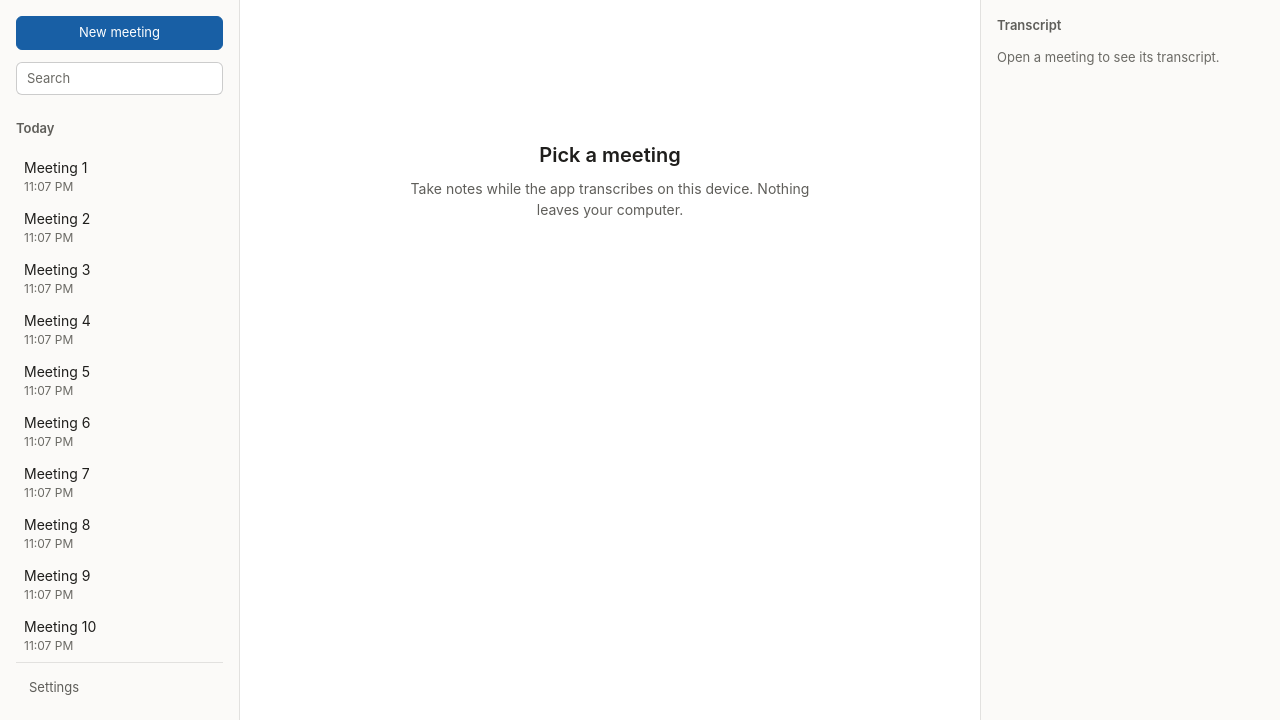
Test case: App › paging › keeps a new meeting at the top while paging
Expected: the button with aria-label "Meeting 1," is shown, [16,150,223,202]
Click the button "New meeting".
click(120, 33)  # box [16,16,223,50]
(page scrolled)
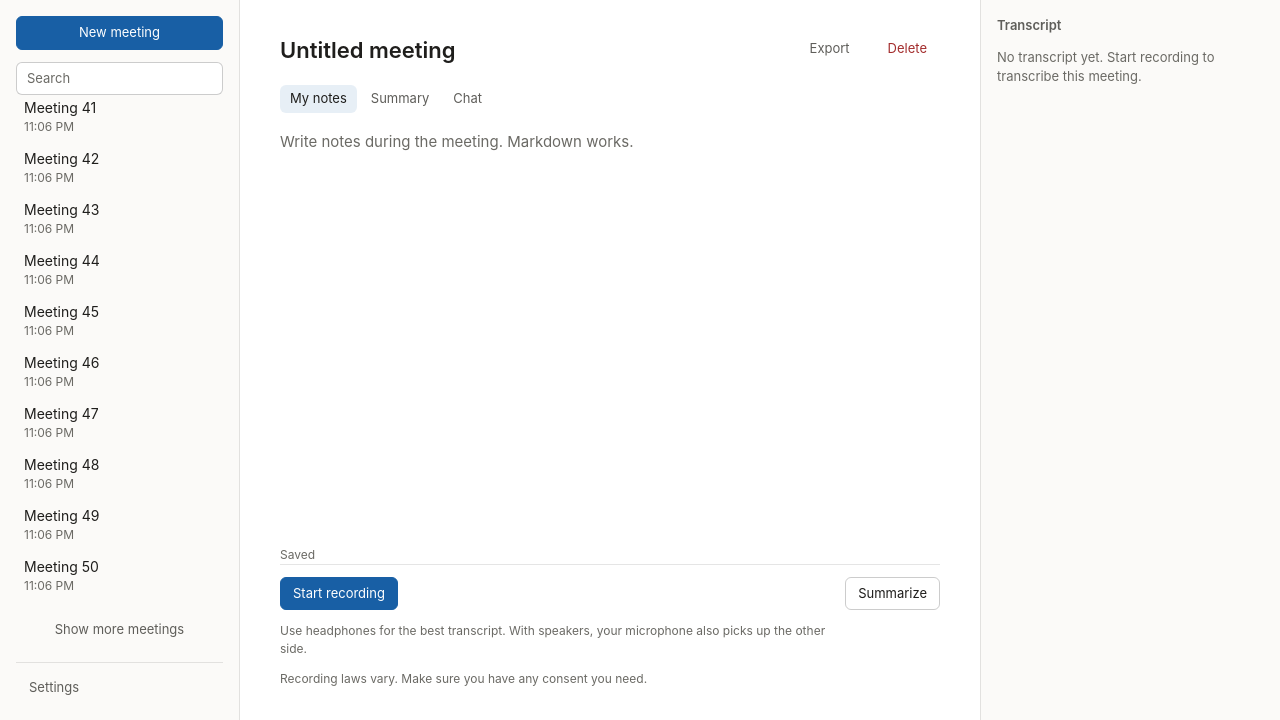
Now the field named "Meeting title" is shown, box [276,32,781,69]
Click the button "Show more meetings".
click(120, 629)  # box [16,612,223,646]
(page scrolled)
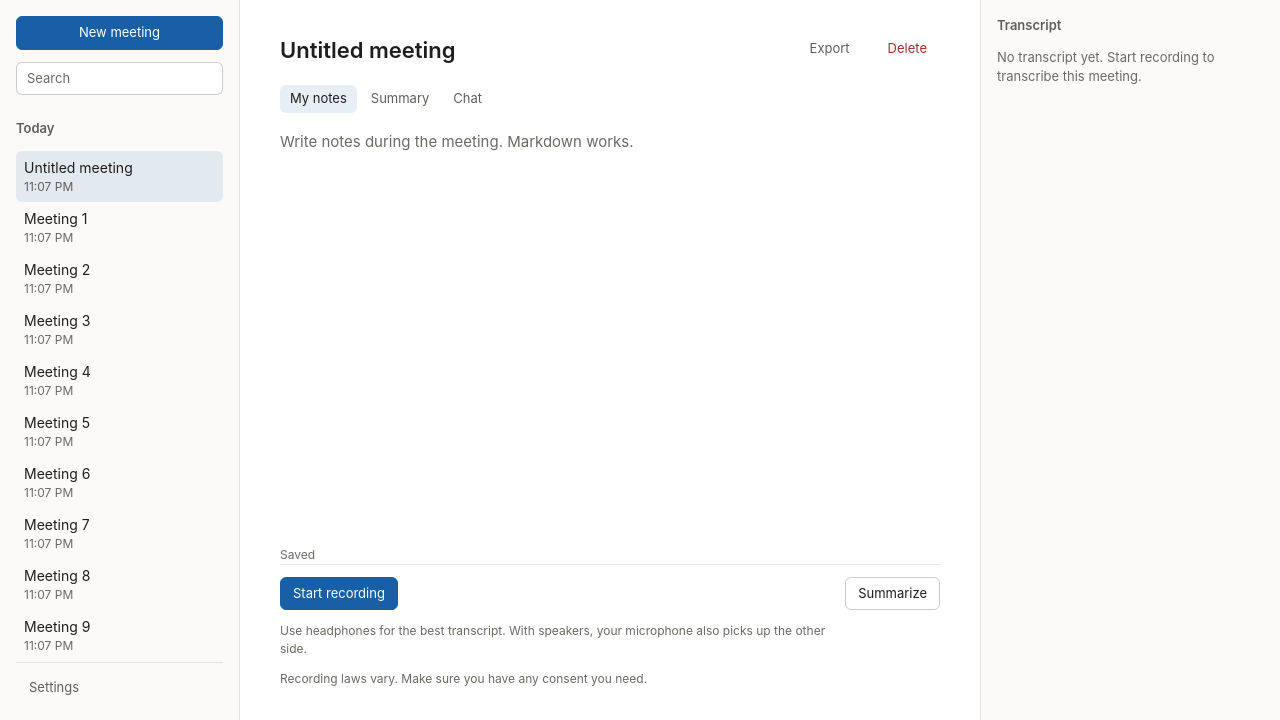
Now the text with class "meeting-title" reads "Untitled meeting", box [24,158,133,176]
